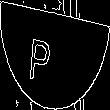P_N: (42, 27, 68, 83)
